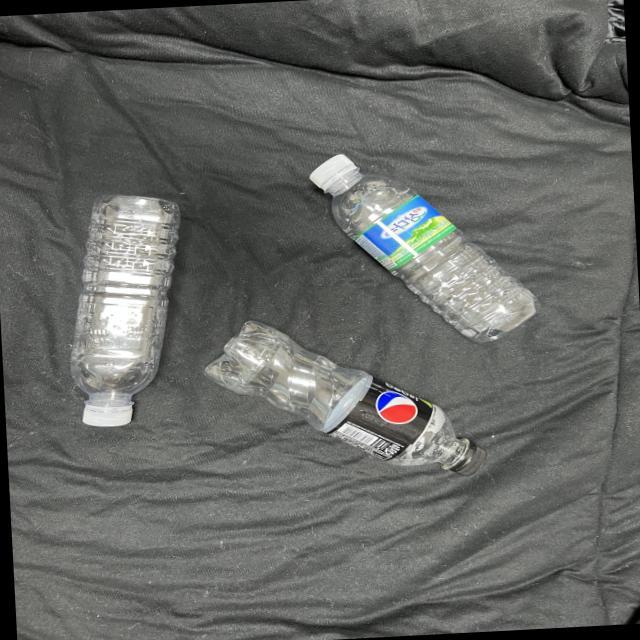good: (185, 307, 507, 502), (292, 136, 559, 360), (58, 183, 196, 436)
